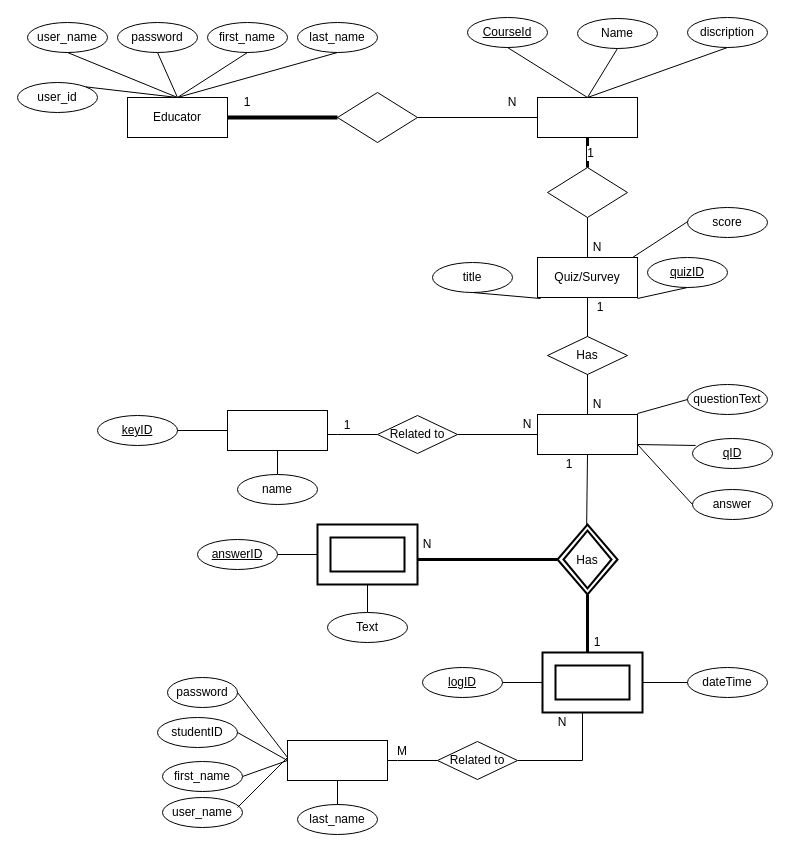
Image size: 790x852. Some labels were removed from this diagram. Each missing label, with the centre of its shape:
Course: (587,117)
KeyConcept: (277,430)
Provides: (587,192)
Question: (587,434)
Student: (337,760)
Teachs: (377,117)
UsageLog: (592,682)
WrongAnswer: (367,554)
